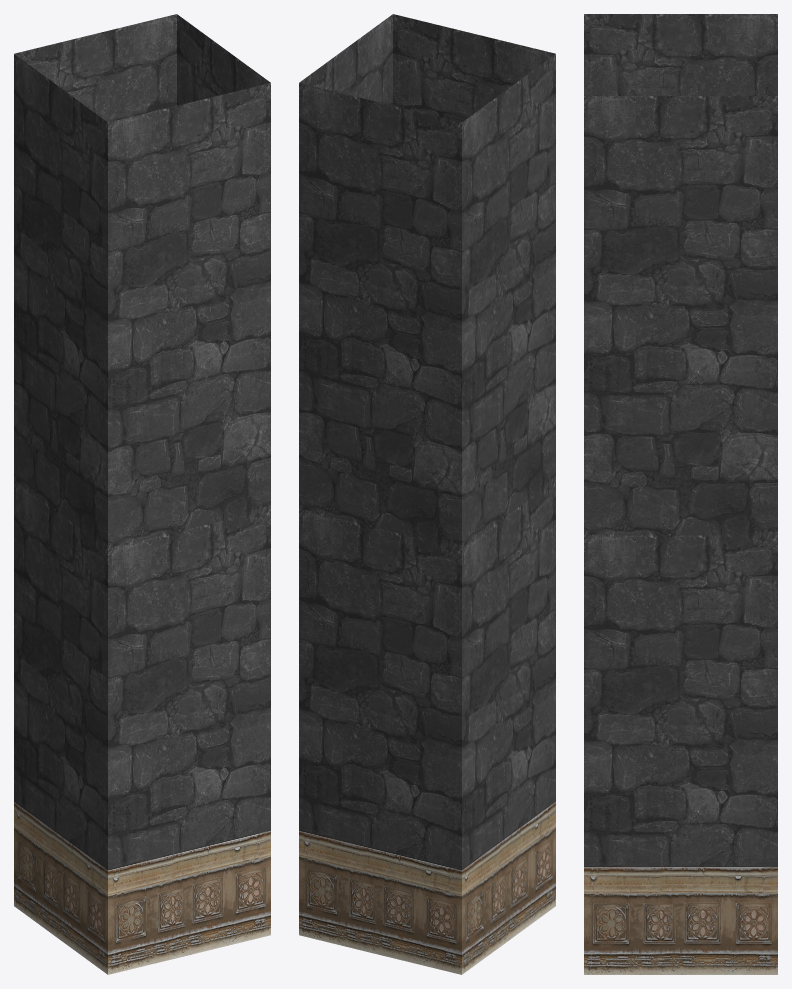
The model's file is FinWall.fbx.
3 views of the same model, side by side, from view 1: azimuth 30°, elevation 25°; view 2: azimuth 150°, elevation 25°; view 3: azimuth 270°, elevation 25° (orthographic). The views are drawn at different scales.
Visible parts, largest first — view 1: pCube1; view 2: pCube1; view 3: pCube1.
Part boxes in pixels (<box>): pCube1: <box>14,14,270,974</box>; pCube1: <box>299,14,555,974</box>; pCube1: <box>584,14,777,974</box>.
Bounding box in the file's own units: 1 × 5 × 1.
1 material, 1 textured.
